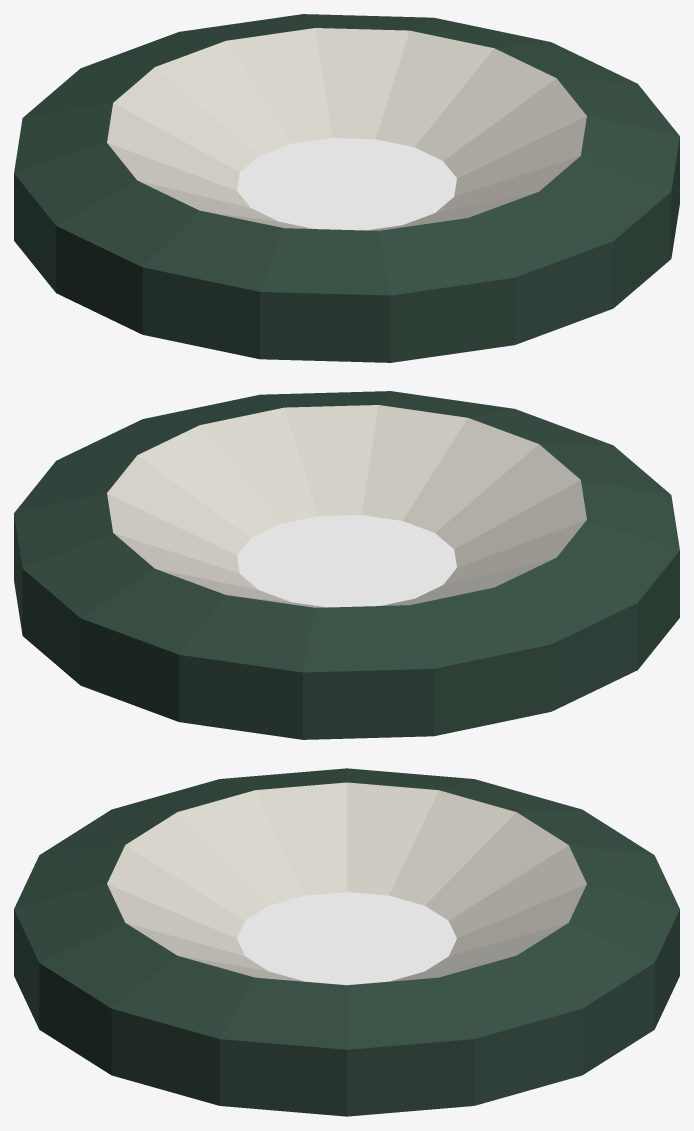
Rendered from Light.glb.
3 renders of one model, top to bottom at view 1: azimuth 30°, elevation 25°; view 2: azimuth 150°, elevation 25°; view 3: azimuth 270°, elevation 25°, orthographic.
Parts seen in each view (by area): view 1: Circle; view 2: Circle; view 3: Circle.
Part boxes in pixels (x1,y1,x2,y2): Circle: [14, 14, 679, 362]; Circle: [14, 391, 679, 739]; Circle: [14, 768, 679, 1116].
Size of the model in its own units: 2 by 0.3049 by 2.
1 material, 1 textured.
